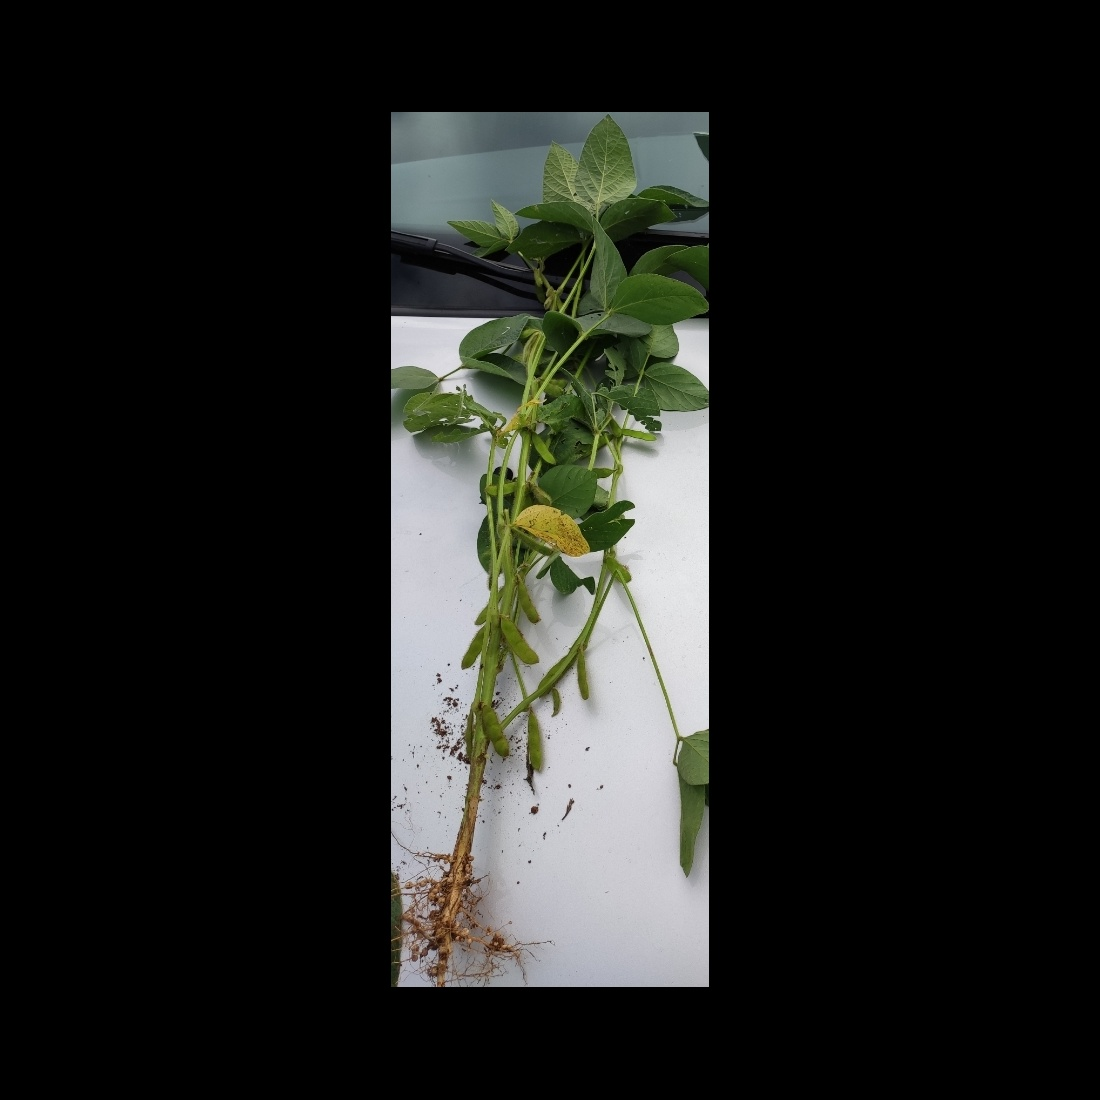pod: (499, 614, 542, 666), (524, 699, 547, 776), (482, 707, 512, 758), (457, 621, 483, 670), (515, 578, 541, 626), (571, 649, 593, 704), (528, 428, 557, 465), (618, 429, 663, 443), (549, 688, 564, 720)
soy: (402, 123, 679, 948)
